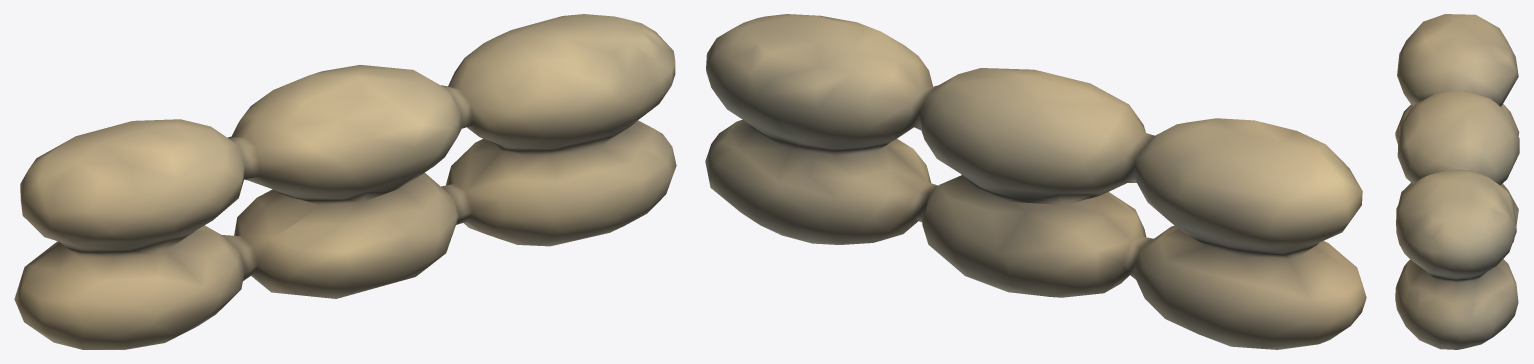
Rendered from env_p_sandbags.glb.
The picture shows the model from 3 angles, left to right: view 1: azimuth 30°, elevation 25°; view 2: azimuth 150°, elevation 25°; view 3: azimuth 270°, elevation 25°; orthographic projection. The views are drawn at different scales.
Parts seen in each view (by area): view 1: geometry_0; view 2: geometry_0; view 3: geometry_0.
Part boxes in pixels (x1,y1,x2,y2): geometry_0: (14, 14, 676, 349); geometry_0: (705, 14, 1366, 349); geometry_0: (1395, 14, 1519, 349).
Bounding box in the file's own units: 1.81 × 0.5491 × 0.4077.
